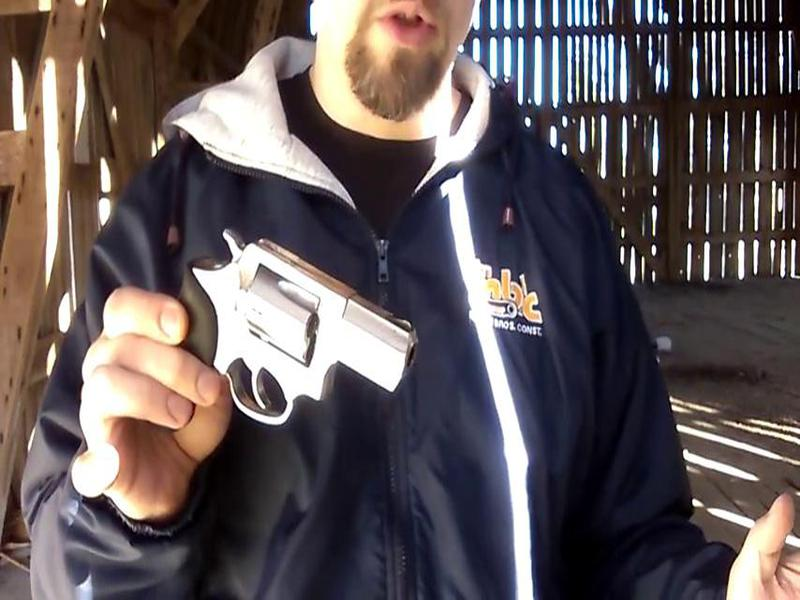Revolver: (165, 211, 435, 460)
